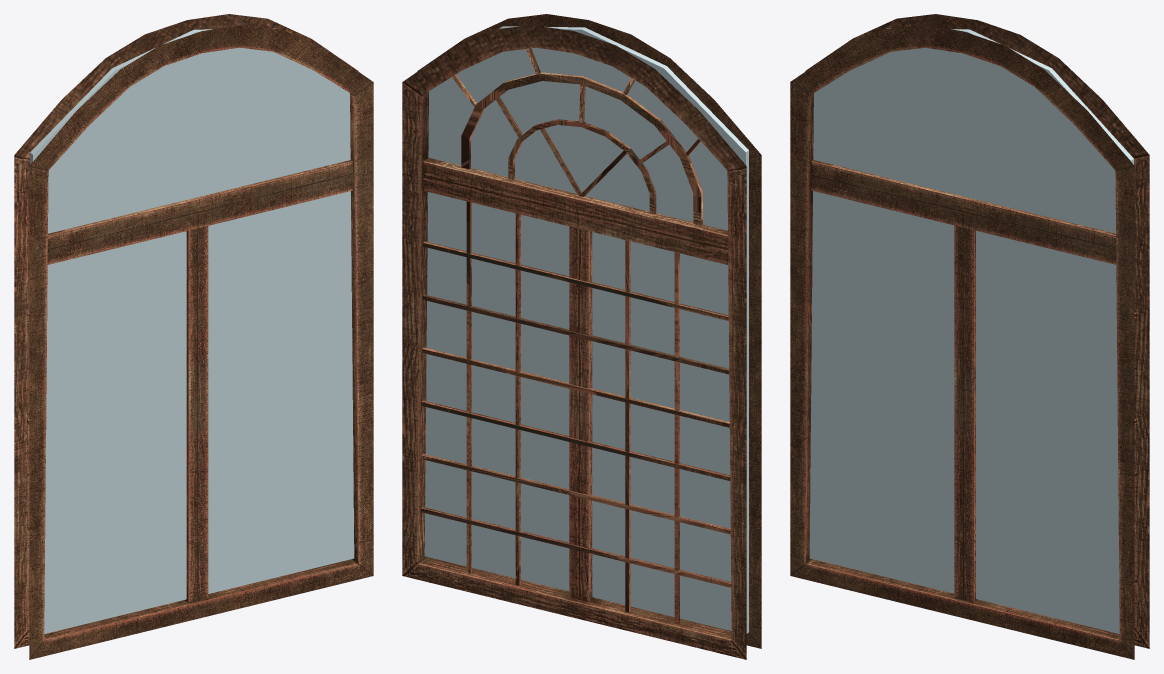
File: window.glb
3 views of the same model, side by side, from view 1: azimuth 30°, elevation 25°; view 2: azimuth 150°, elevation 25°; view 3: azimuth 330°, elevation 25° (orthographic).
Visible parts, largest first — view 1: glass, win; view 2: glass, win, Object009; view 3: glass, win.
Part boxes in pixels (<box>): glass: <box>30,28,354,633</box>; win: <box>14,14,373,659</box>; glass: <box>424,26,748,633</box>; win: <box>402,14,761,659</box>; Object009: <box>420,48,731,624</box>; glass: <box>809,28,1133,633</box>; win: <box>790,14,1149,659</box>.
Bounding box in the file's own units: 0.7066 × 1.15 × 0.0533.
Materials: 3 (2 with a texture image).
